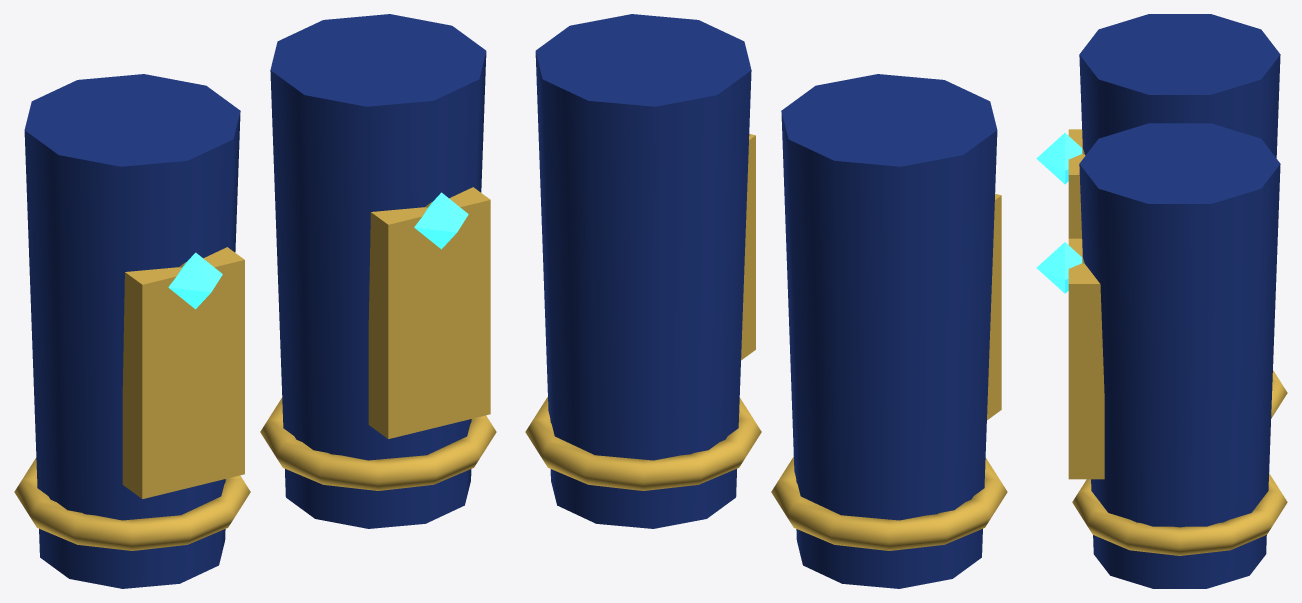
Rendered from dw_legs_elite.glb.
The picture shows the model from 3 angles, left to right: view 1: azimuth 30°, elevation 25°; view 2: azimuth 150°, elevation 25°; view 3: azimuth 270°, elevation 25°; orthographic projection. The views are drawn at different scales.
Parts seen in each view (by area): view 1: greave_1, greave_-1, greave_trim_1, greave_trim_-1, greave_ring_-1, greave_ring_1, knee_gem_1, knee_gem_-1; view 2: greave_1, greave_-1, greave_ring_-1, greave_ring_1, greave_trim_-1, greave_trim_1; view 3: greave_1, greave_-1, greave_trim_1, greave_ring_1, greave_trim_-1, knee_gem_-1, knee_gem_1, greave_ring_-1.
Part boxes in pixels (<box>): greave_1: <box>270,14,486,528</box>; greave_-1: <box>24,74,240,588</box>; greave_trim_1: <box>368,187,490,438</box>; greave_trim_-1: <box>122,247,244,498</box>; greave_ring_-1: <box>14,458,250,550</box>; greave_ring_1: <box>260,397,496,490</box>; knee_gem_1: <box>414,192,468,249</box>; knee_gem_-1: <box>168,252,222,309</box>; greave_1: <box>535,14,751,528</box>; greave_-1: <box>781,74,997,588</box>; greave_ring_-1: <box>771,456,1007,550</box>; greave_ring_1: <box>525,397,761,490</box>; greave_trim_-1: <box>987,193,1001,420</box>; greave_trim_1: <box>741,134,755,360</box>; greave_1: <box>1079,123,1280,588</box>; greave_-1: <box>1079,14,1280,157</box>; greave_trim_1: <box>1068,238,1104,479</box>; greave_ring_1: <box>1072,473,1287,555</box>; greave_trim_-1: <box>1068,129,1085,238</box>; knee_gem_-1: <box>1036,133,1082,184</box>; knee_gem_1: <box>1036,242,1082,293</box>; greave_ring_-1: <box>1271,370,1287,418</box>.
Bounding box in the file's own units: 0.66 × 0.6 × 0.35.
